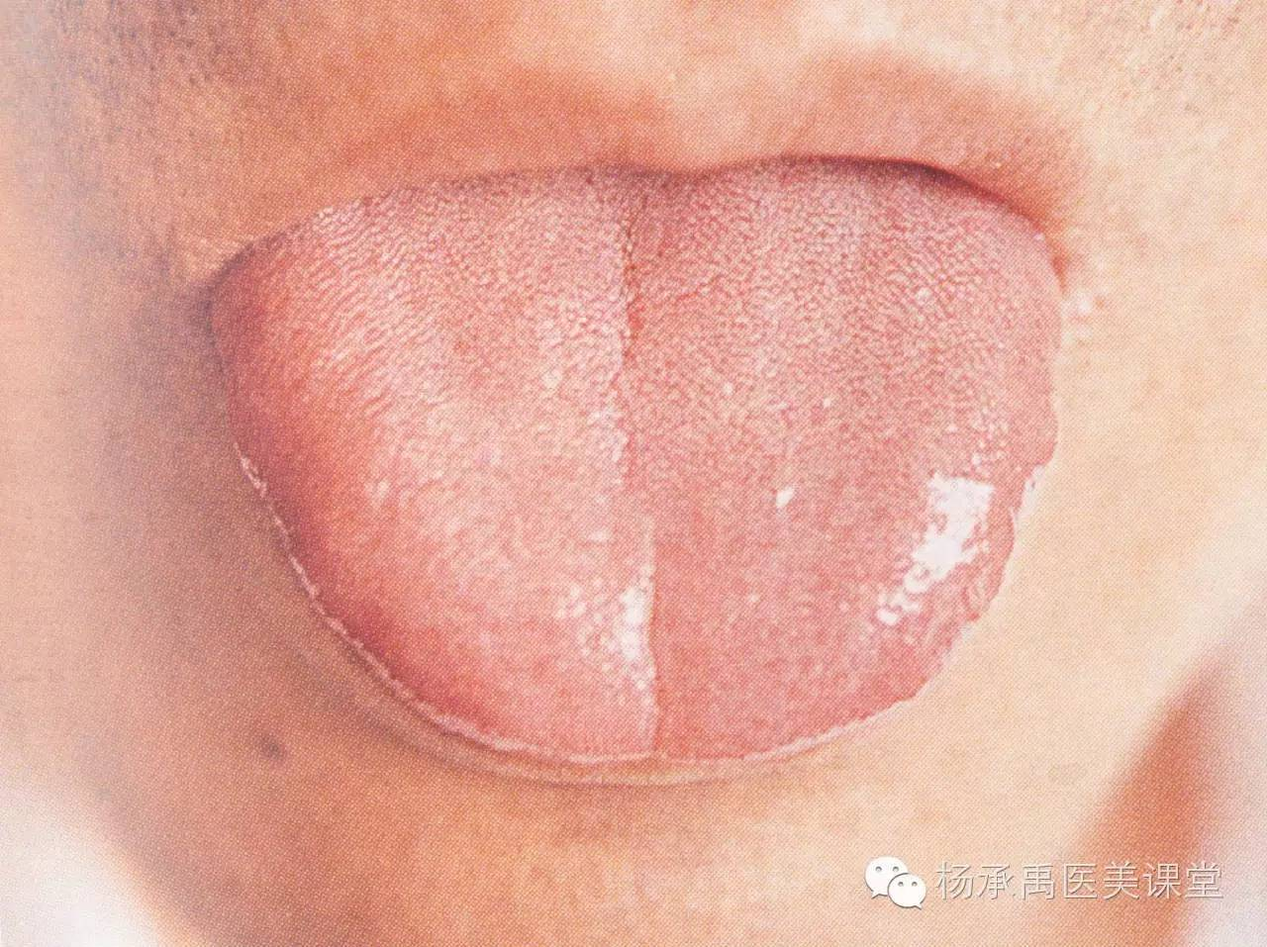liewenshe: (601, 214, 646, 495)
pangdashe: (210, 167, 1065, 763)
